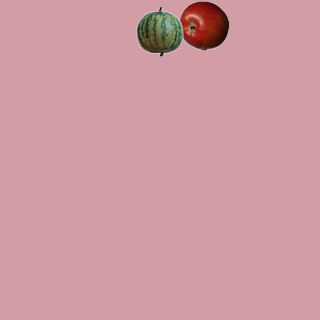Apple Braeburn: (178, 0, 228, 50)
Watermelon: (134, 6, 184, 56)
